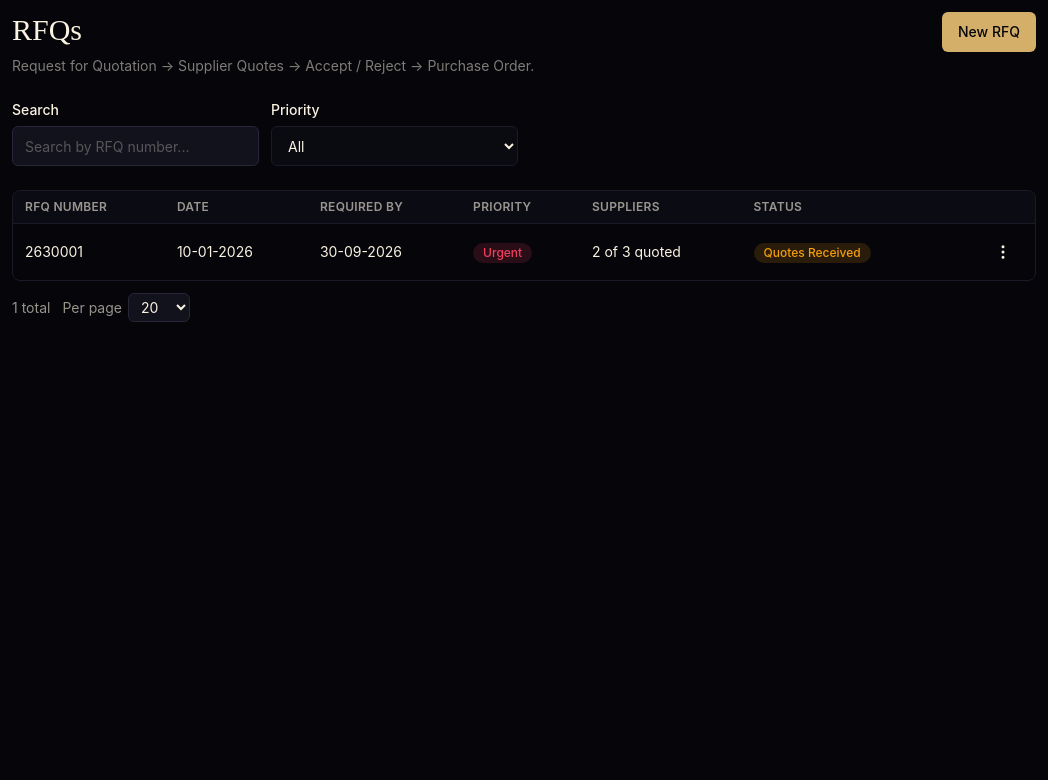
Test case: RfqsPage › shows per-supplier PDF actions and the comparison
What coordinates should you click on to do the following:
click the button named "Actions for 2630001"
I would click on:
 (1003, 252)
Its box is left=983, top=232, right=1023, bottom=272.
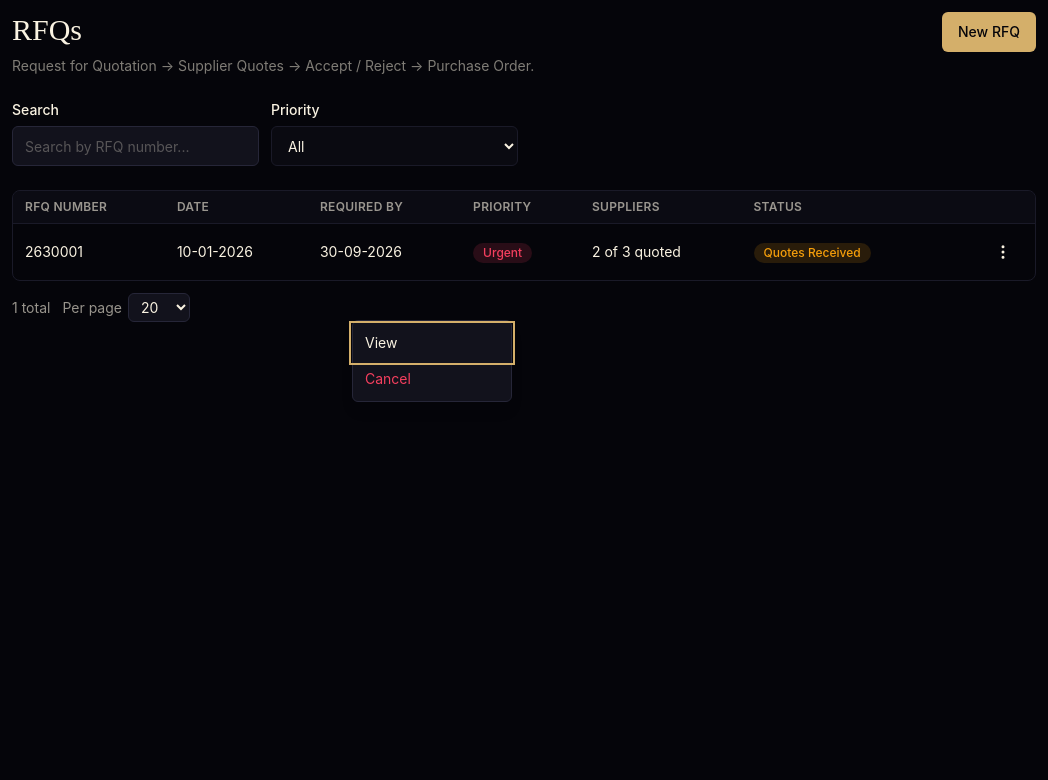
What coordinates should you click on to do the following:
click the menu item "View"
I would click on:
 (432, 343)
Its box is left=353, top=325, right=511, bottom=361.
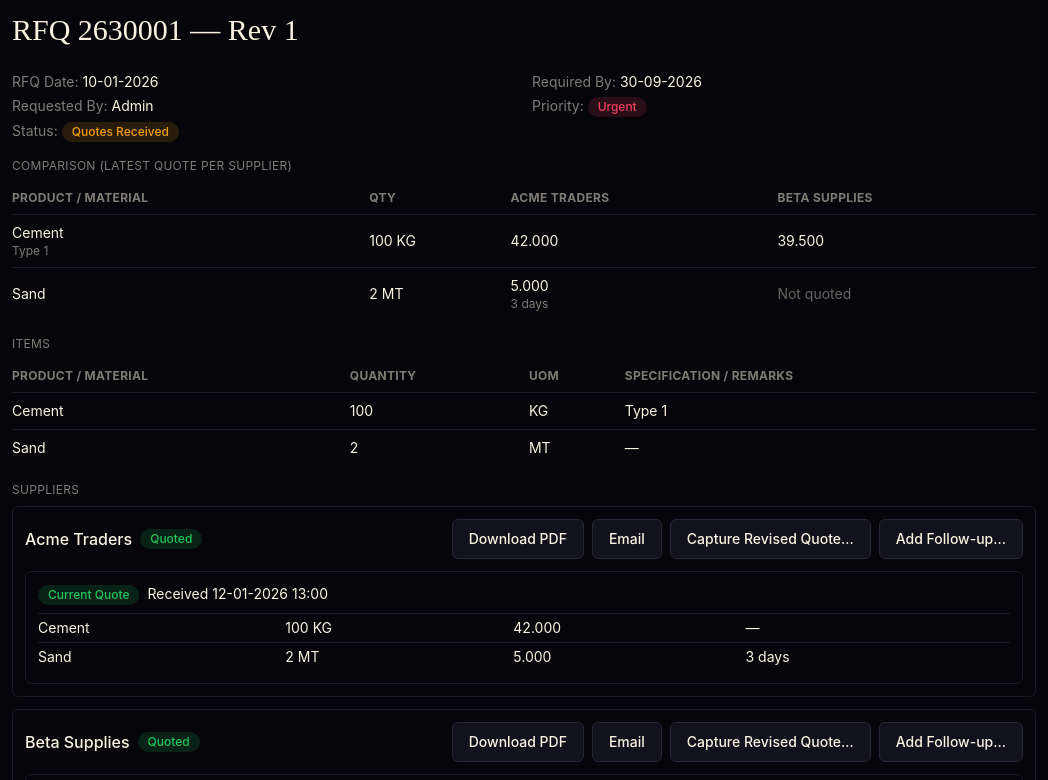
Expected: the number of buttons "Download PDF" is 3
Expected: the number of buttons "Email" is 3
Expected: the column headings read "Product / Material", "Qty", "Acme Traders", "Beta Supplies", in this order, left=12, top=182, right=369, bottom=214; left=369, top=182, right=511, bottom=214; left=511, top=182, right=777, bottom=214; left=777, top=182, right=1036, bottom=214
